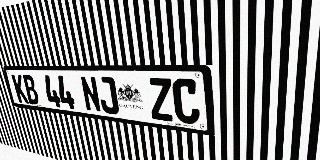4: (55, 75, 76, 109), (42, 75, 62, 108)
B: (21, 75, 40, 105)
C: (172, 78, 200, 125)
J: (96, 76, 120, 115)
K: (11, 74, 29, 104)
N: (79, 76, 102, 113)
Z: (147, 78, 174, 122)
